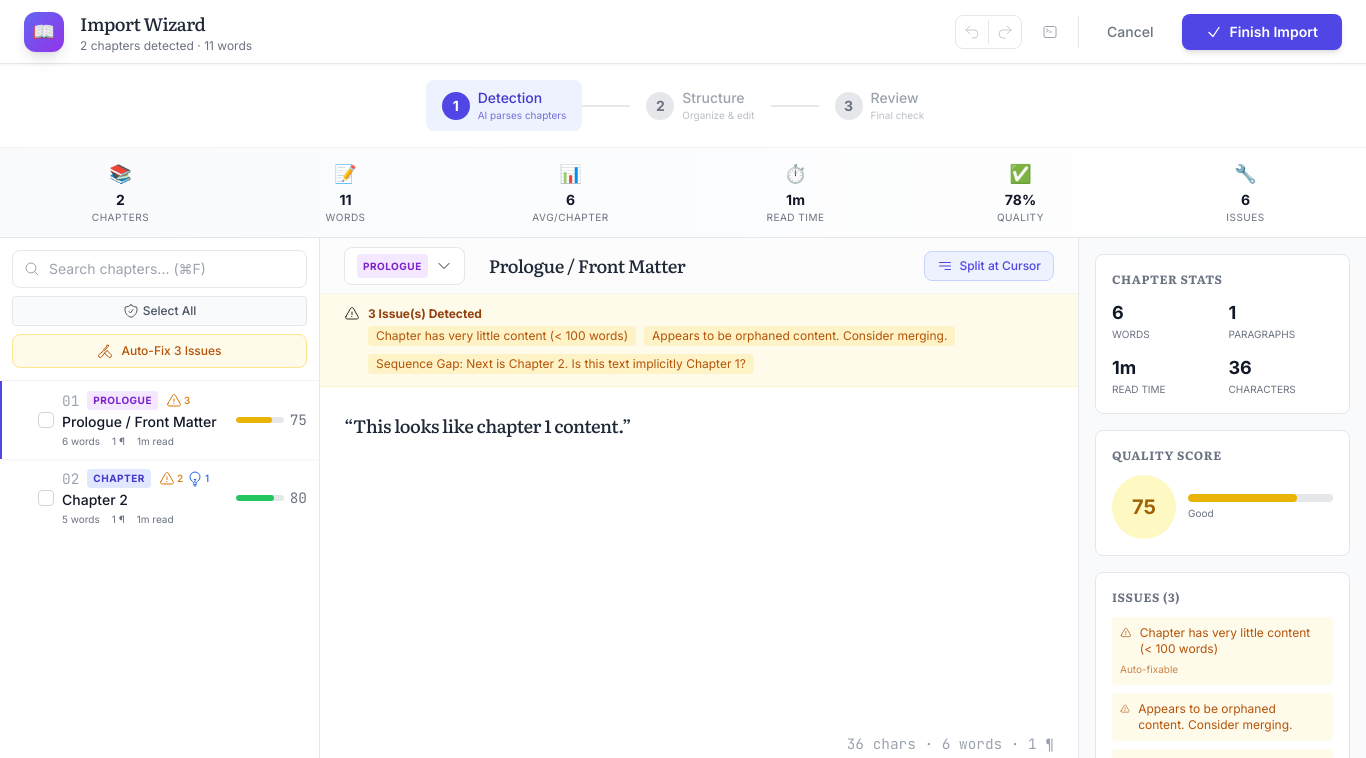
it: ImportWizard multi-step flow › detects and auto-fixes missing Chapter 1 sequence gap
Check: the text "Sequence Gap: Next is Chapter 2" below "Issue(s) Detected" is shown, box [376, 356, 746, 371]
Click Auto-Fix
Click the button "Auto-Fix 3 Issues": (160, 351) [12, 334, 307, 368]
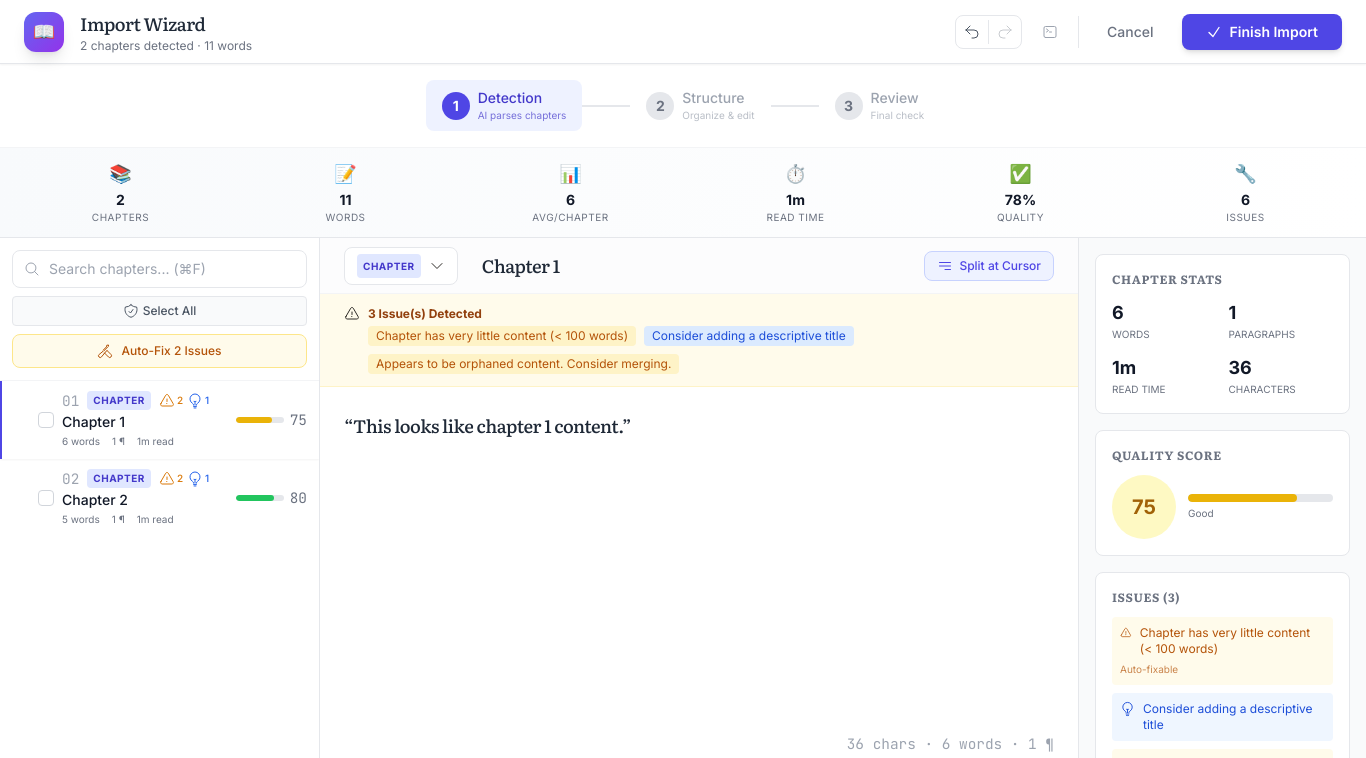
Check: the text "Chapter 1" is shown, box [62, 413, 125, 430]
Check: the text "Sequence Gap: Next is Chapter 2" is gone
